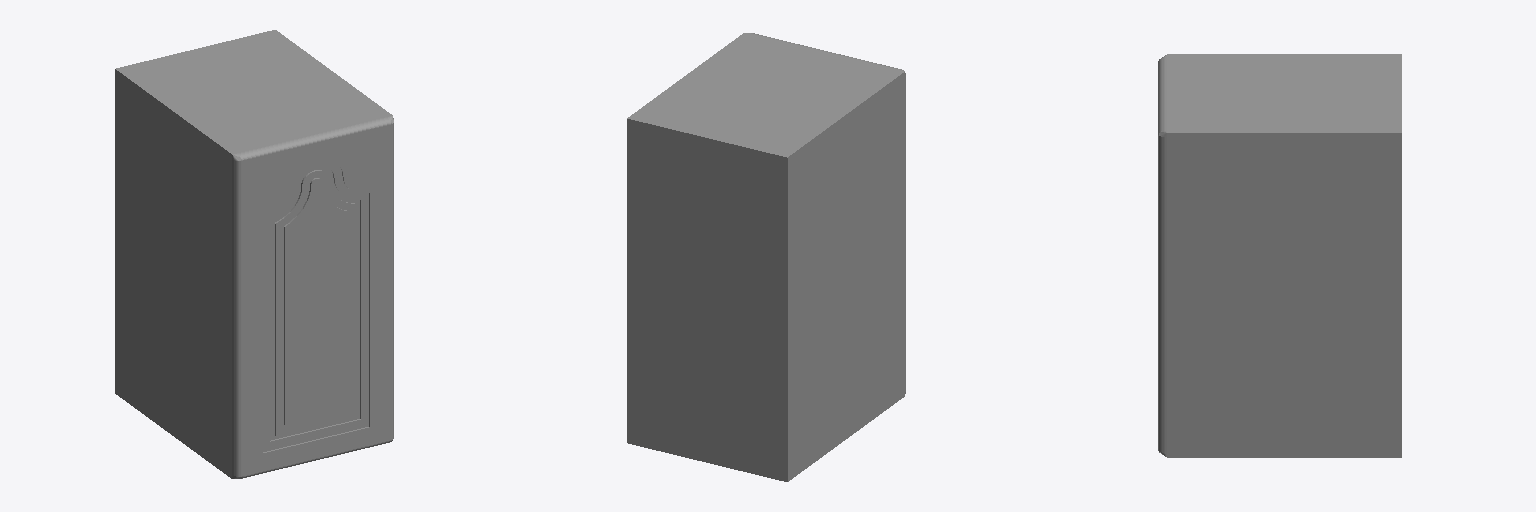
The model's file is single-base-unit-450.obj.
3 views of the same model, side by side, from view 1: azimuth 30°, elevation 25°; view 2: azimuth 150°, elevation 25°; view 3: azimuth 270°, elevation 25° (orthographic).
Visible parts, largest first — view 1: Cube.003_Cube.008, Cube.002_Cube.004, Cube_Cube.002, Cube.001_Cube.003; view 2: Cube_Cube.002, Cube.002_Cube.004, Cube.001_Cube.003, Cube.003_Cube.008; view 3: Cube.001_Cube.003, Cube_Cube.002, Cube.003_Cube.008, Cube.002_Cube.004.
Boxes of the visible parts, x1,y1,x2,y2 form: Cube.003_Cube.008: [232, 116, 393, 478]; Cube.002_Cube.004: [115, 68, 236, 478]; Cube_Cube.002: [120, 31, 386, 152]; Cube.001_Cube.003: [271, 30, 392, 116]; Cube_Cube.002: [632, 34, 898, 480]; Cube.002_Cube.004: [782, 70, 904, 481]; Cube.001_Cube.003: [627, 33, 748, 443]; Cube.003_Cube.008: [748, 33, 905, 393]; Cube.001_Cube.003: [1167, 130, 1401, 457]; Cube_Cube.002: [1167, 57, 1401, 129]; Cube.003_Cube.008: [1158, 55, 1166, 456]; Cube.002_Cube.004: [1167, 54, 1401, 56].
Size of the model in its own units: 90 by 174 by 118.